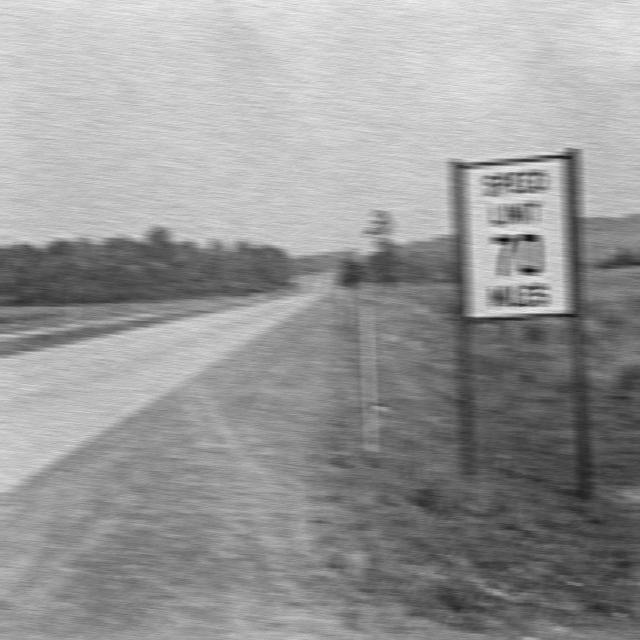speedLimit70: (455, 153, 574, 318)
